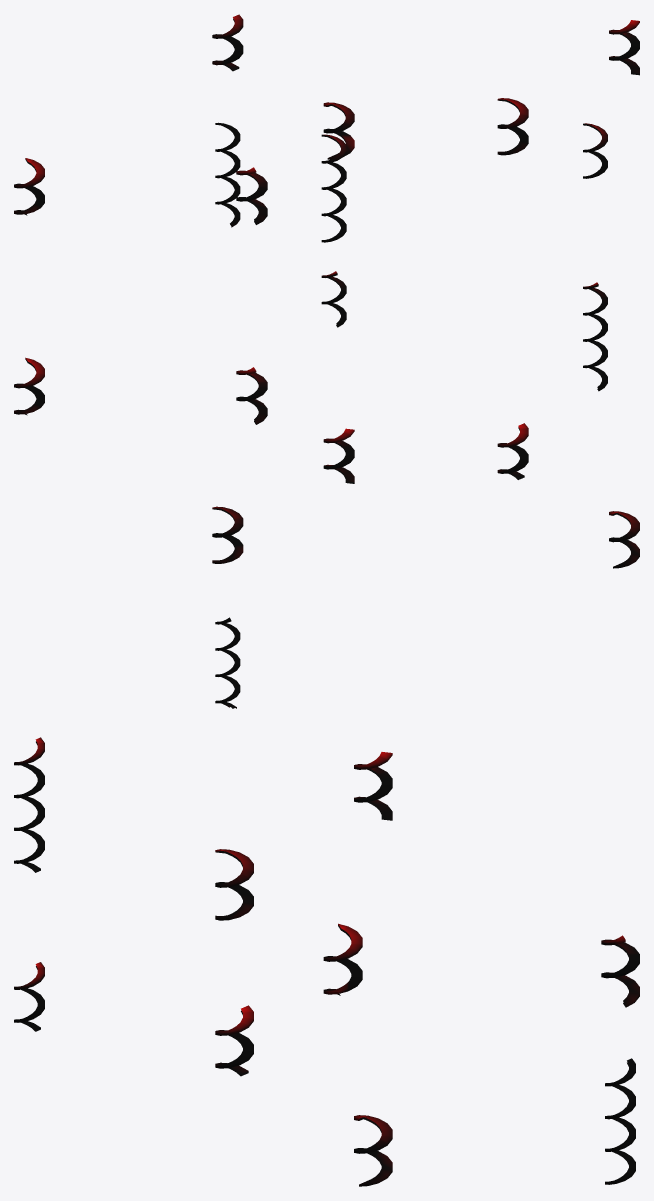
File: TowersOuter_Spirals_export.obj
3 views of the same model, one above another, from view 1: azimuth 30°, elevation 25°; view 2: azimuth 150°, elevation 25°; view 3: azimuth 270°, elevation 25° (orthographic). The views are drawn at different scales.
Parts seen in each view (by area): view 1: TowersOuter_Spirals; view 2: TowersOuter_Spirals; view 3: TowersOuter_Spirals.
Part boxes in pixels (x1,y1,x2,y2): TowersOuter_Spirals: (14, 14, 639, 242); TowersOuter_Spirals: (14, 271, 639, 708); TowersOuter_Spirals: (14, 737, 639, 1186).
Bounding box in the file's own units: 74.23 × 33.29 × 51.89.
